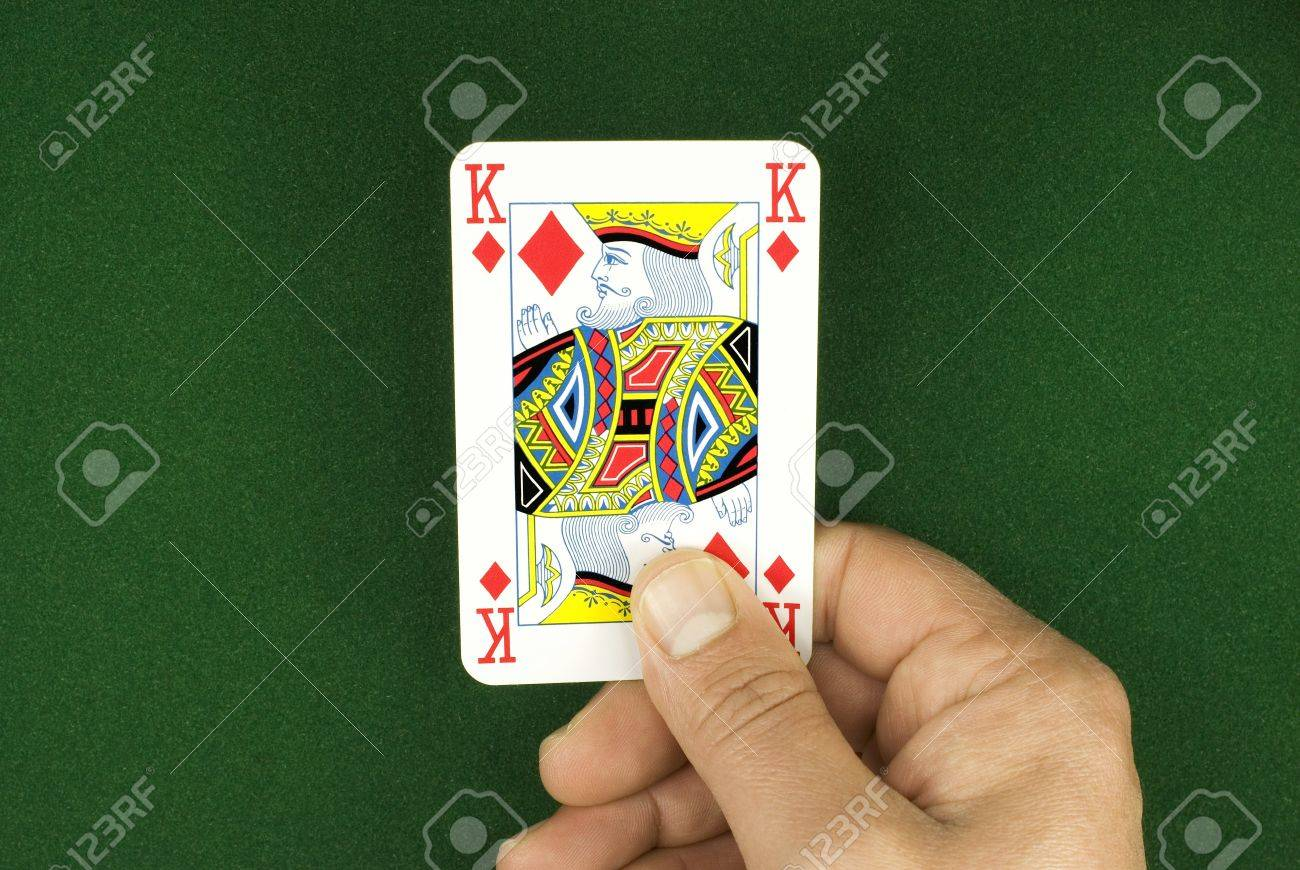king of diamonds: (448, 130, 823, 676)
